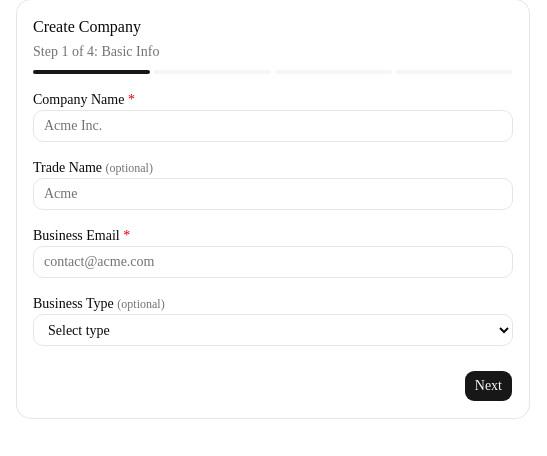
Test: T084 — CompanyCreateWizard › validates currency code on step 2 (must be 3 letters)
Type "Acme Inc" into the field labelled "Company Name *" at (273, 126), box [33,110,513,142]
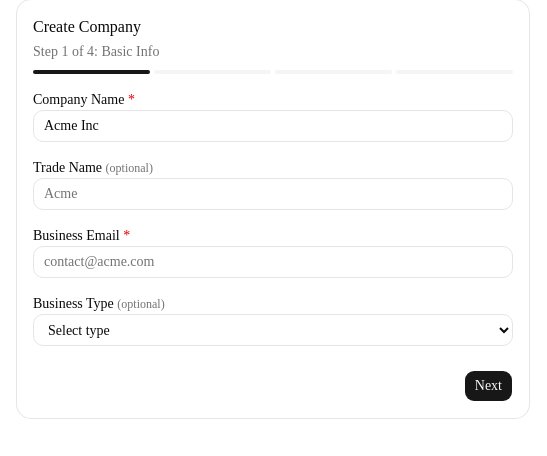
Type "test@acme.com" into the field labelled "Business Email *" at (273, 262), box [33,246,513,278]
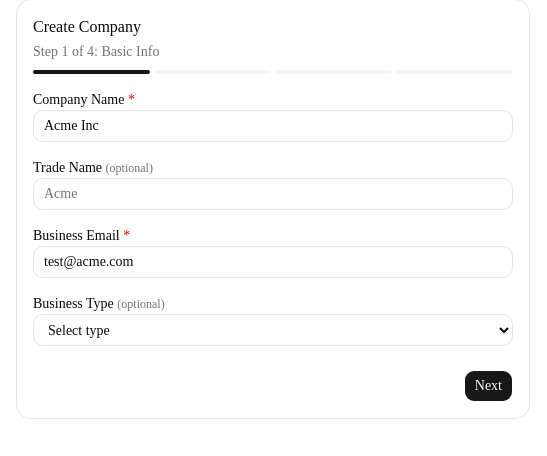
Click the button "Next" at (488, 386), box [464,370,513,402]
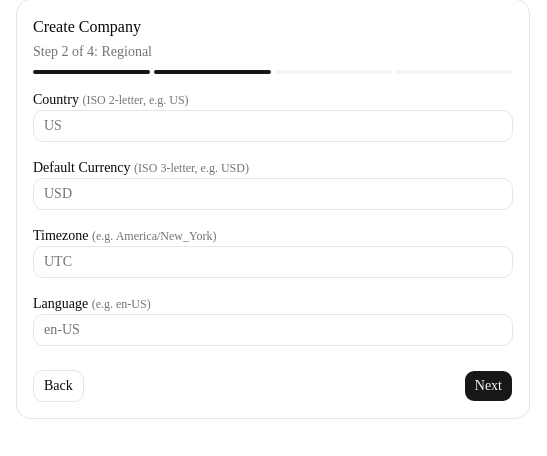
Check: the field labelled "Default Currency (ISO 3-letter, e.g. USD)" is shown
Type "US" into the field labelled "Default Currency (ISO 3-letter, e.g. USD)" at (273, 194), box [33,178,513,210]
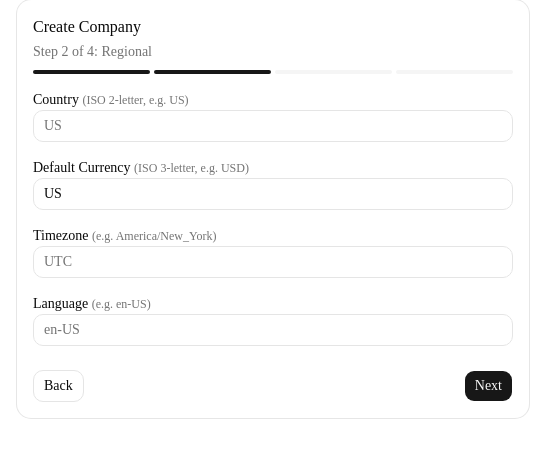
Click the button "Next" at (488, 386), box [464,370,513,402]
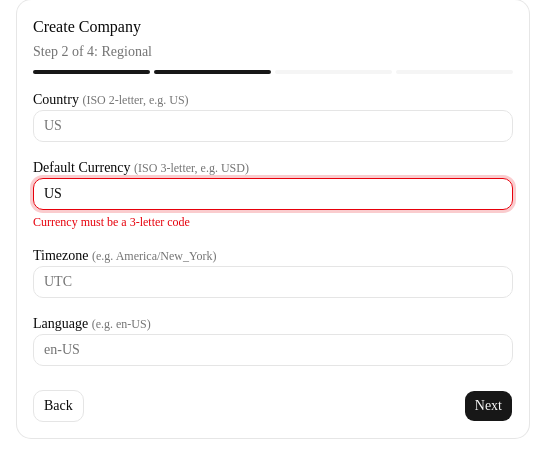
Check: the text "Currency must be a 3-letter code" is shown, box [33,215,190,229]
